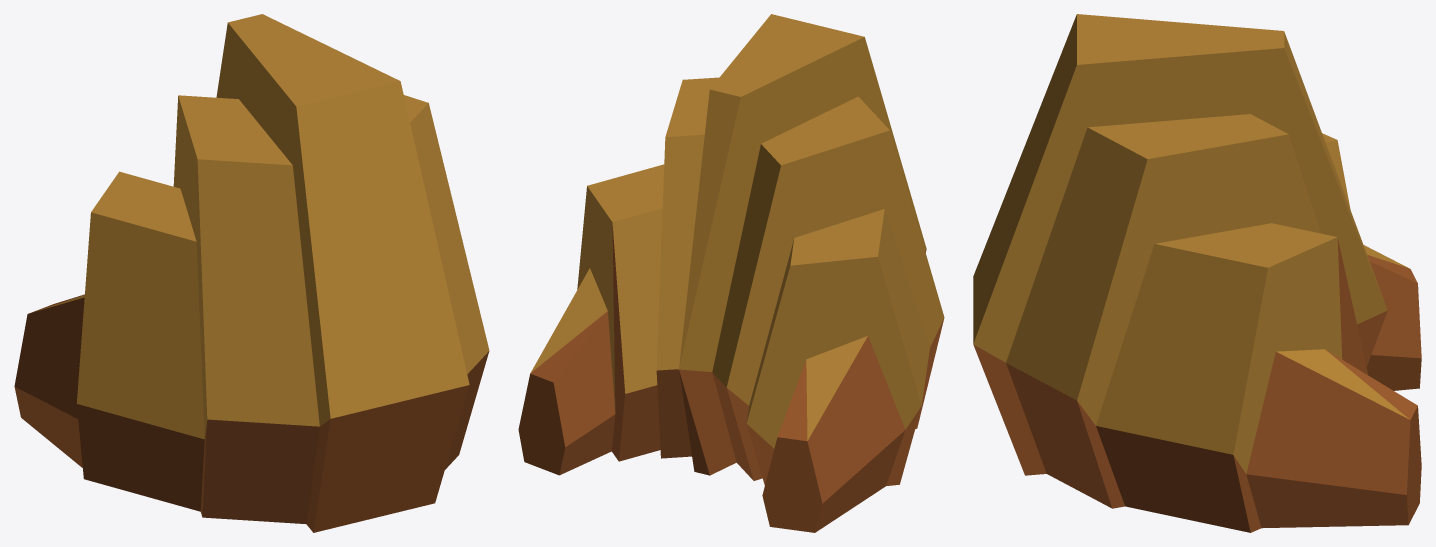
The model's file is croissant.glb.
3 renders of one model, left to right at view 1: azimuth 30°, elevation 25°; view 2: azimuth 150°, elevation 25°; view 3: azimuth 270°, elevation 25°, orthographic. The views are drawn at different scales.
Size of the model in its own units: 1 by 1 by 1.
